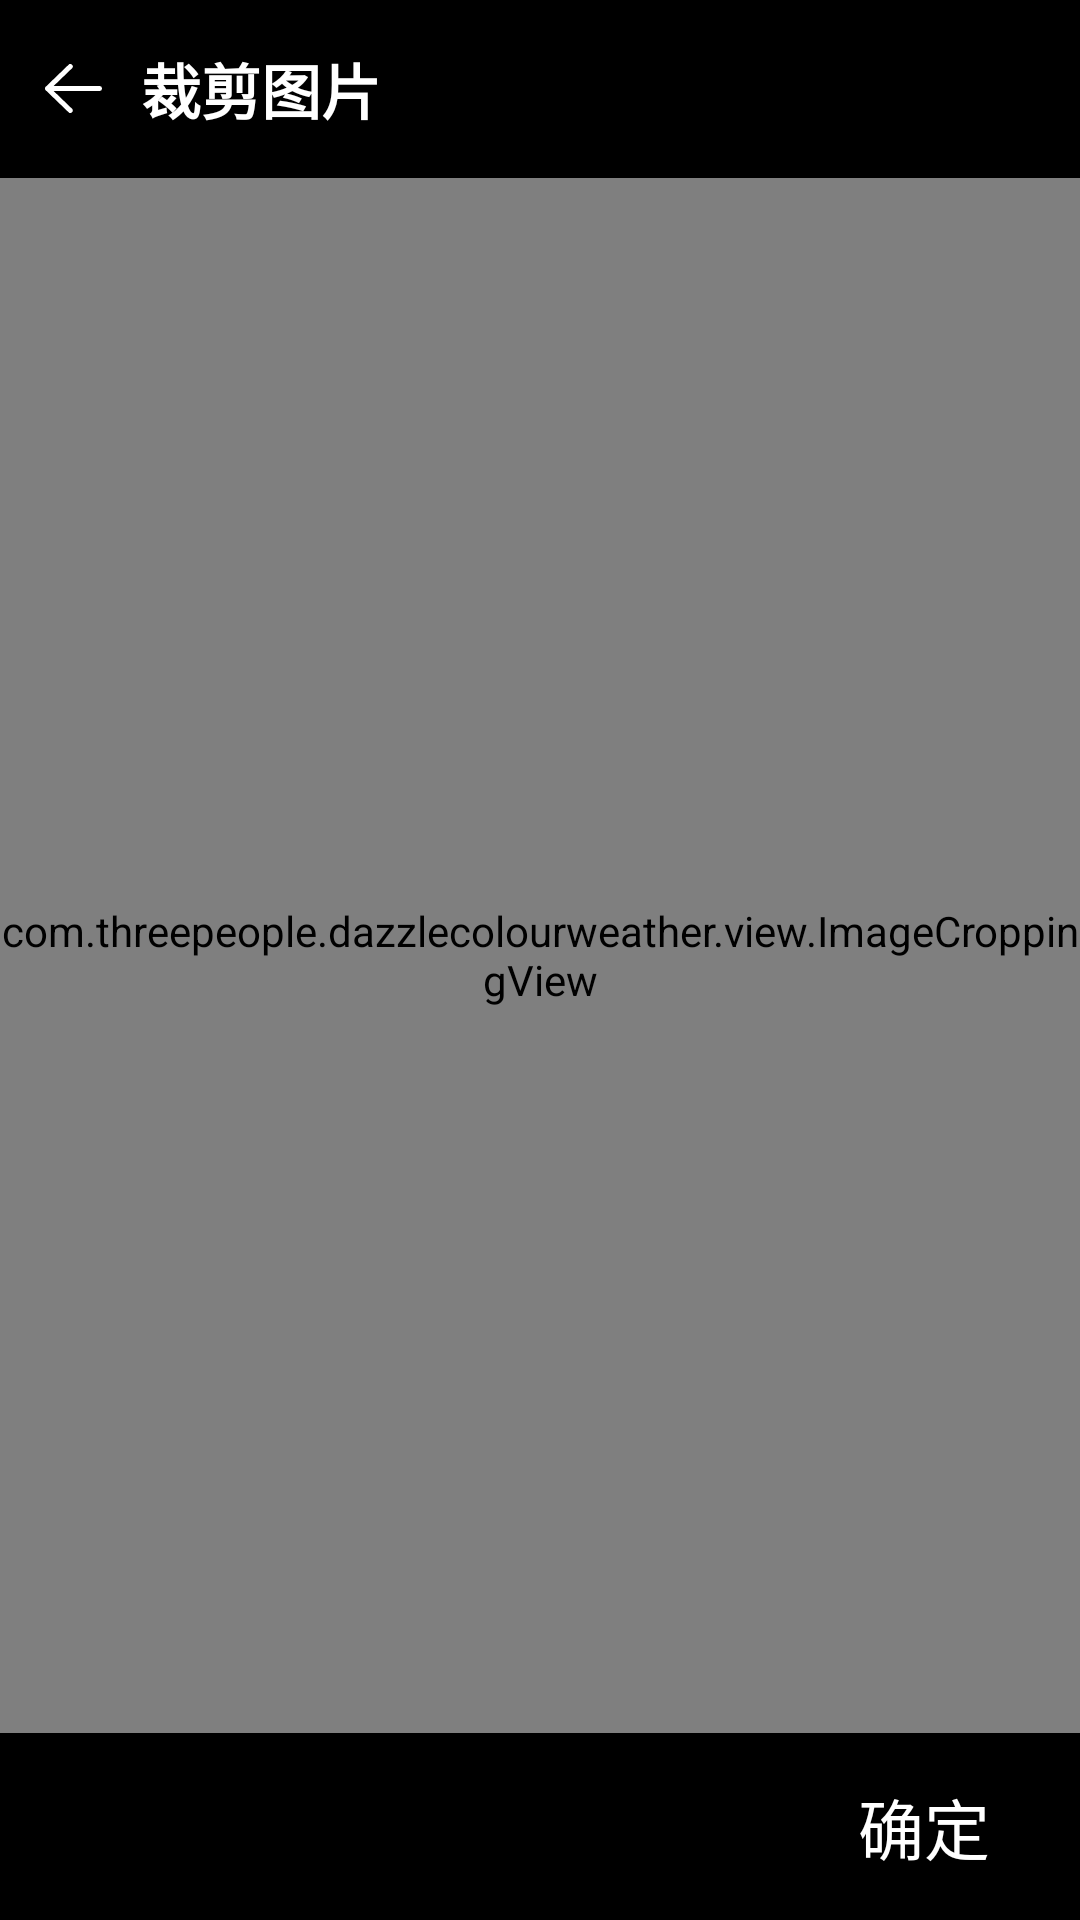

Screen size 1080x1920. Icon name, then its box in pixels as (x1, y1, x2, y2):
return: (45, 64, 102, 113)
